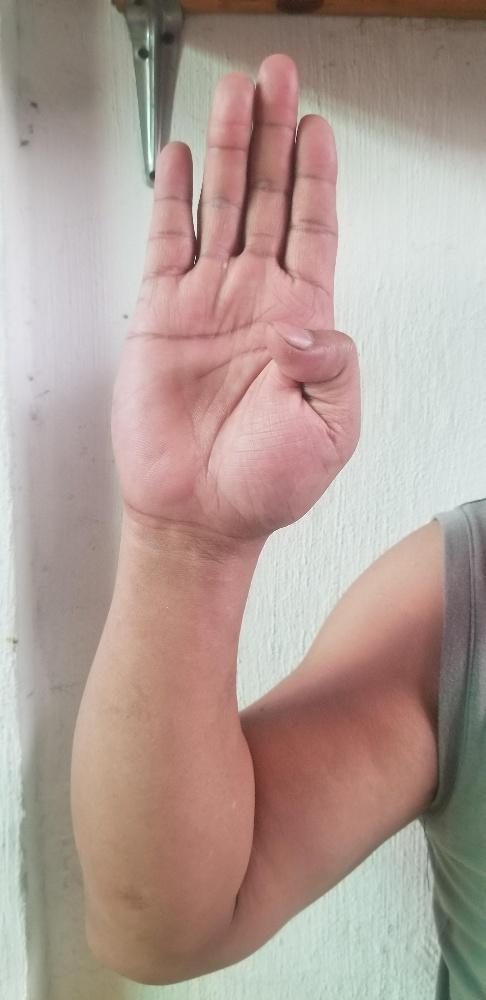b: (106, 50, 363, 533)
